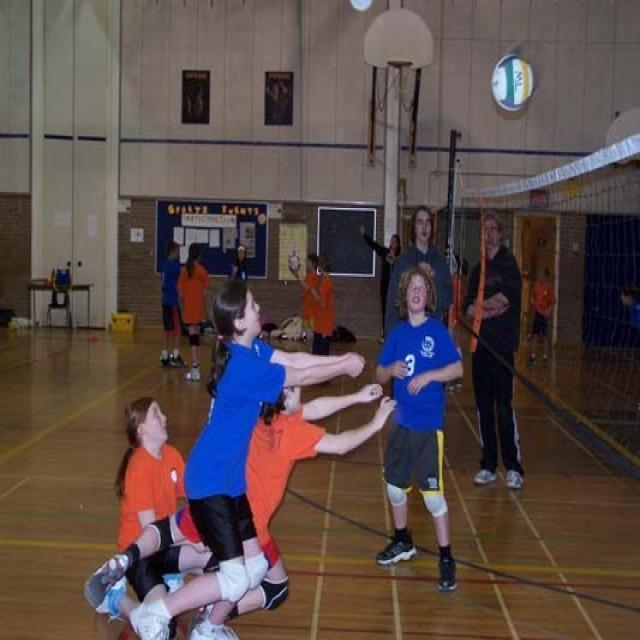volleyball: (492, 54, 536, 110)
